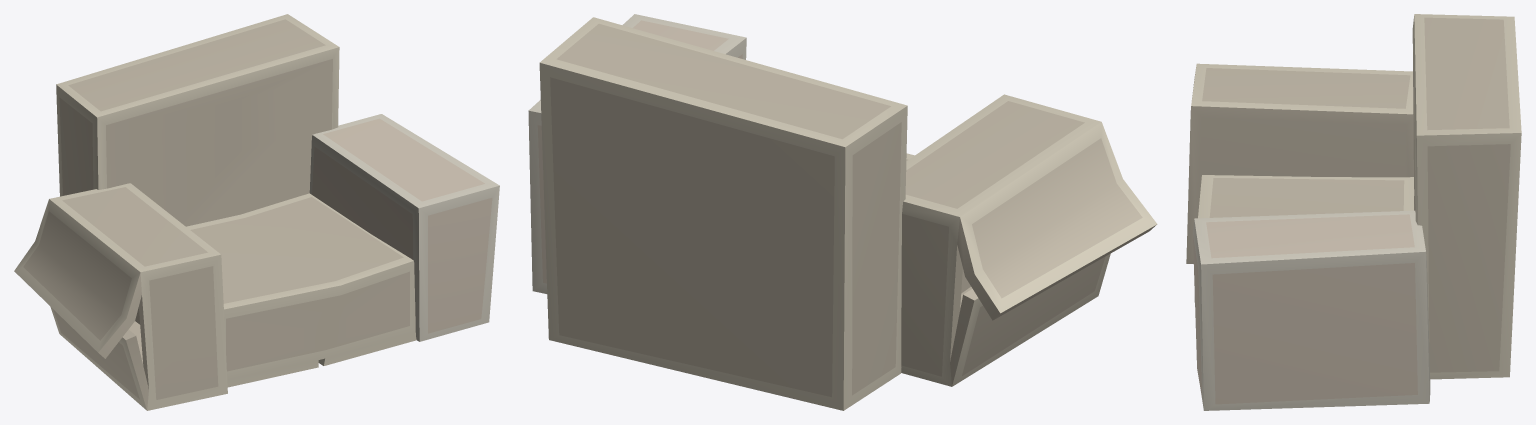
File: BoxChair.glb
The picture shows the model from 3 angles, left to right: view 1: azimuth 30°, elevation 25°; view 2: azimuth 150°, elevation 25°; view 3: azimuth 270°, elevation 25°; orthographic projection. The views are drawn at different scales.
Parts seen in each view (by area): view 1: BoxChair; view 2: BoxChair; view 3: BoxChair.
Boxes of the visible parts, <box> form: BoxChair: <box>14,14,499,410</box>; BoxChair: <box>528,14,1157,410</box>; BoxChair: <box>1186,14,1521,410</box>.
Size of the model in its own units: 1.56 by 0.8125 by 1.
